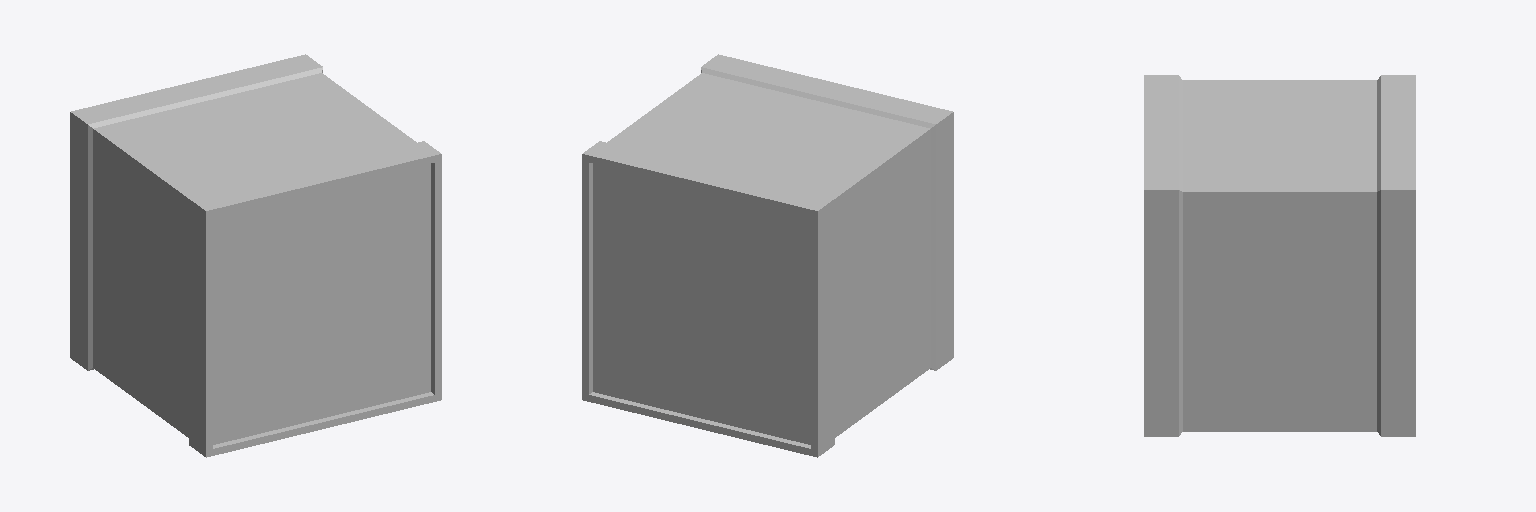
File: Crate_LOD01.obj
3 renders of one model, left to right at view 1: azimuth 30°, elevation 25°; view 2: azimuth 150°, elevation 25°; view 3: azimuth 270°, elevation 25°, orthographic.
Parts seen in each view (by area): view 1: Crate_LOD01; view 2: Crate_LOD01; view 3: Crate_LOD01.
Part boxes in pixels (left/top/right/bottom): Crate_LOD01: left=70, top=54, right=441, bottom=457; Crate_LOD01: left=582, top=54, right=953, bottom=457; Crate_LOD01: left=1144, top=75, right=1415, bottom=436.
Size of the model in its own units: 1.32 by 1.32 by 1.32.